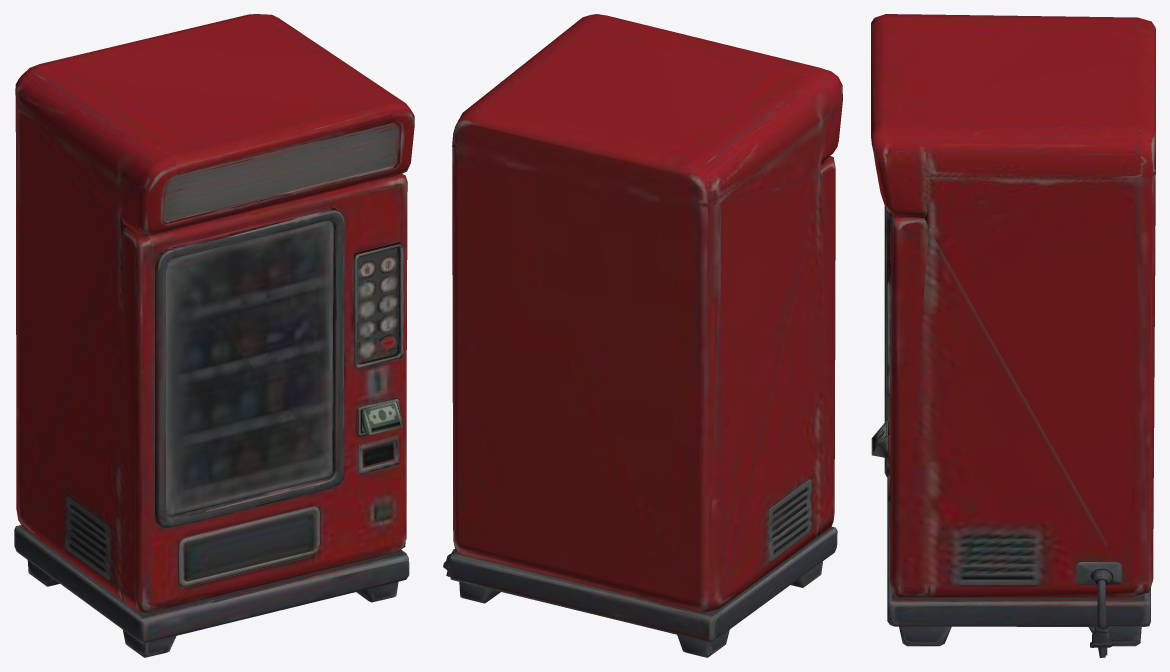
Rendered from vending_off.glb.
The picture shows the model from 3 angles, left to right: view 1: azimuth 30°, elevation 25°; view 2: azimuth 150°, elevation 25°; view 3: azimuth 270°, elevation 25°; orthographic projection. The views are drawn at different scales.
Visible parts, largest first — view 1: vending_off; view 2: vending_off; view 3: vending_off.
Boxes of the visible parts, <box> form: vending_off: <box>14,14,414,657</box>; vending_off: <box>443,14,842,657</box>; vending_off: <box>871,14,1155,657</box>.
Bounding box in the file's own units: 0.92 × 1.5 × 0.755.
1 material, 1 textured.
